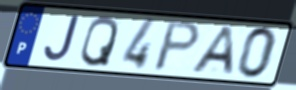0: (234, 26, 282, 80)
4: (118, 16, 157, 73)
A: (188, 25, 236, 77)
J: (42, 14, 82, 64)
P: (151, 19, 204, 73)
Q: (78, 15, 121, 69)
